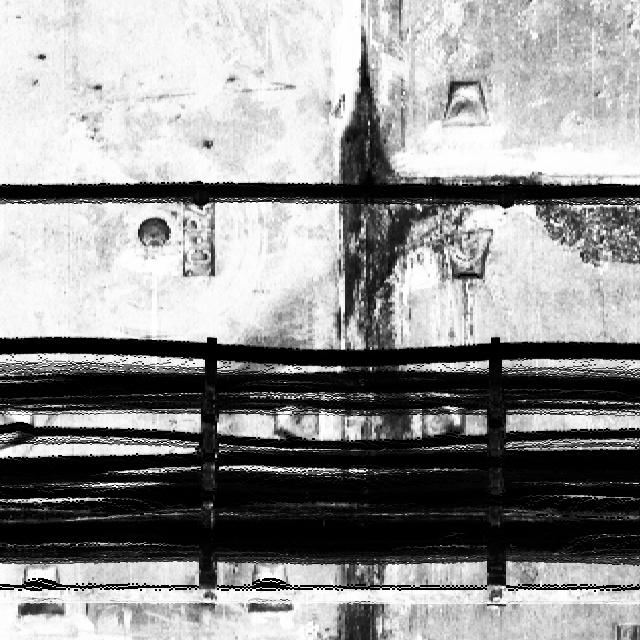leakage: (324, 13, 418, 344), (426, 158, 639, 269), (316, 560, 395, 639), (346, 411, 423, 438)
